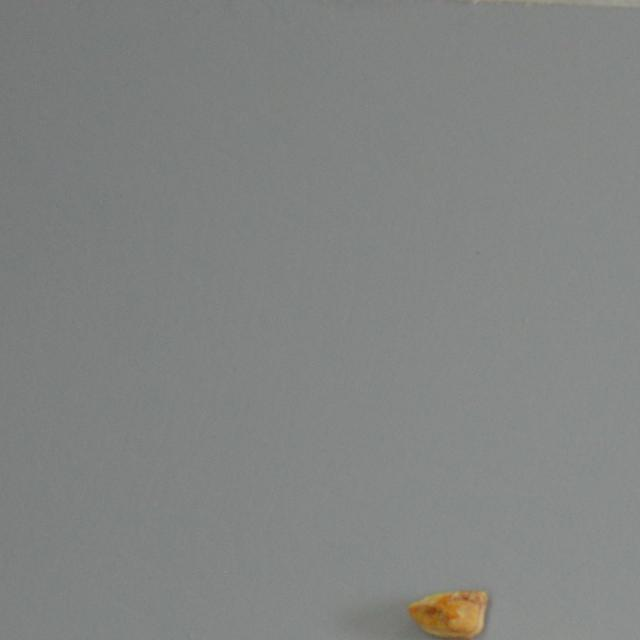dañado: (405, 584, 493, 640)
